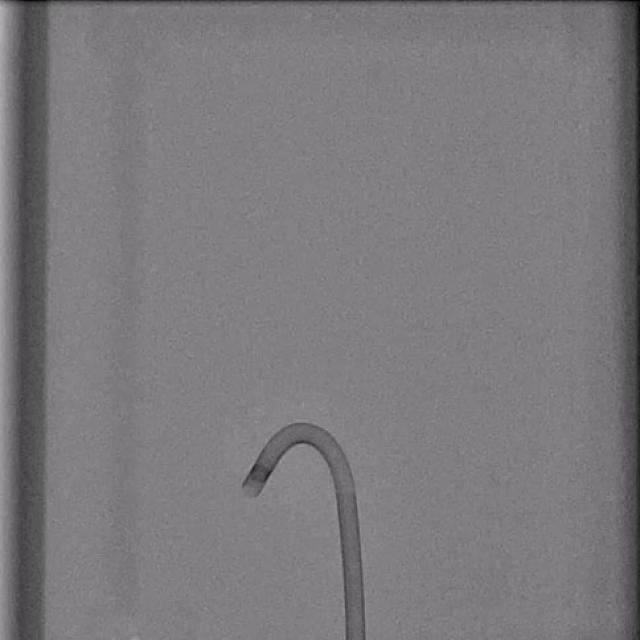bend: (334, 484, 357, 497)
entry: (347, 634, 365, 640)
marker: (250, 463, 272, 482)
tip: (242, 486, 257, 497)
